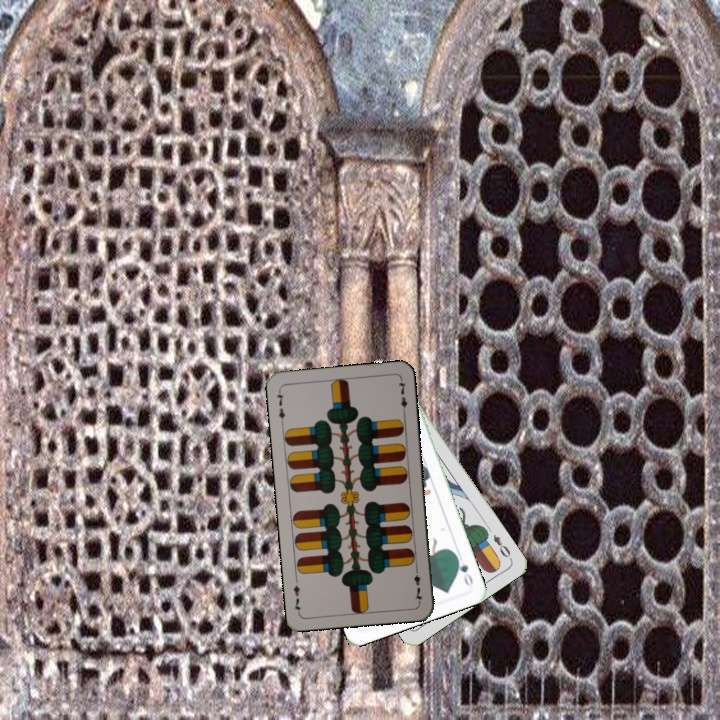E7: (272, 386, 288, 427), (410, 564, 425, 604)
EO: (489, 531, 513, 560)
GO: (452, 551, 475, 589)
